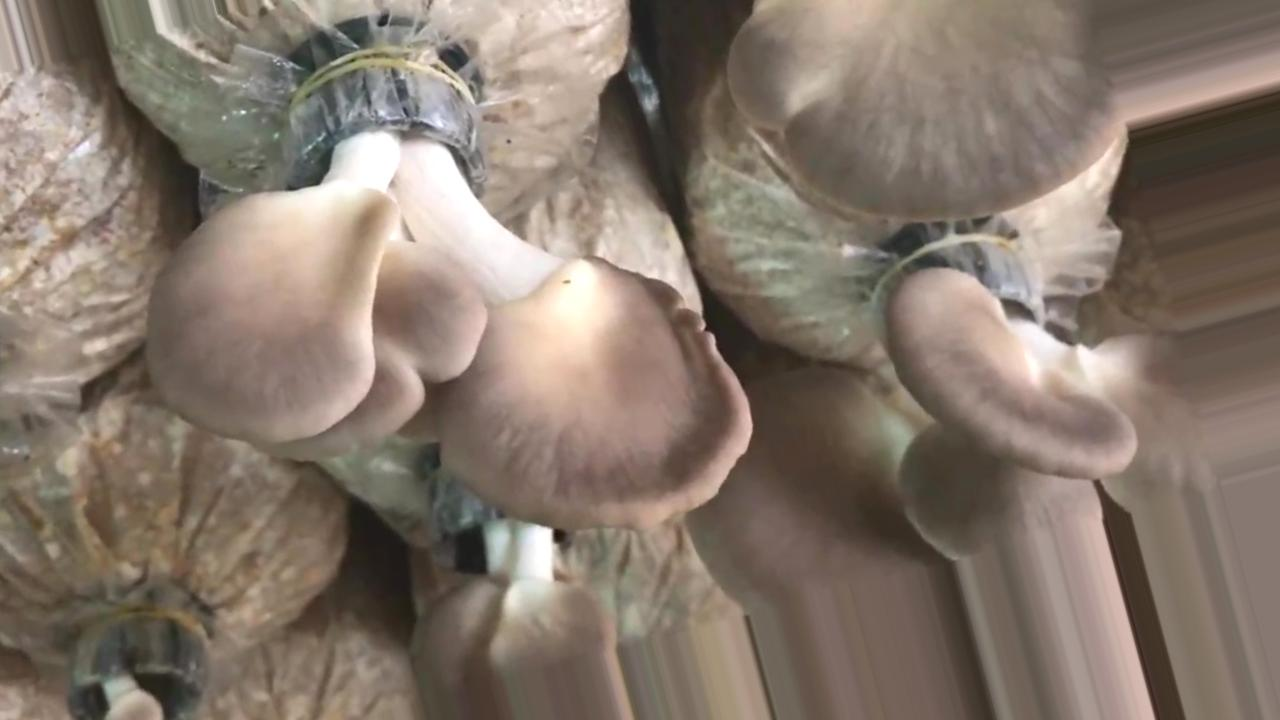nam: (149, 59, 749, 530), (689, 240, 1216, 720), (723, 1, 1271, 221), (409, 479, 616, 719), (70, 602, 202, 720)
